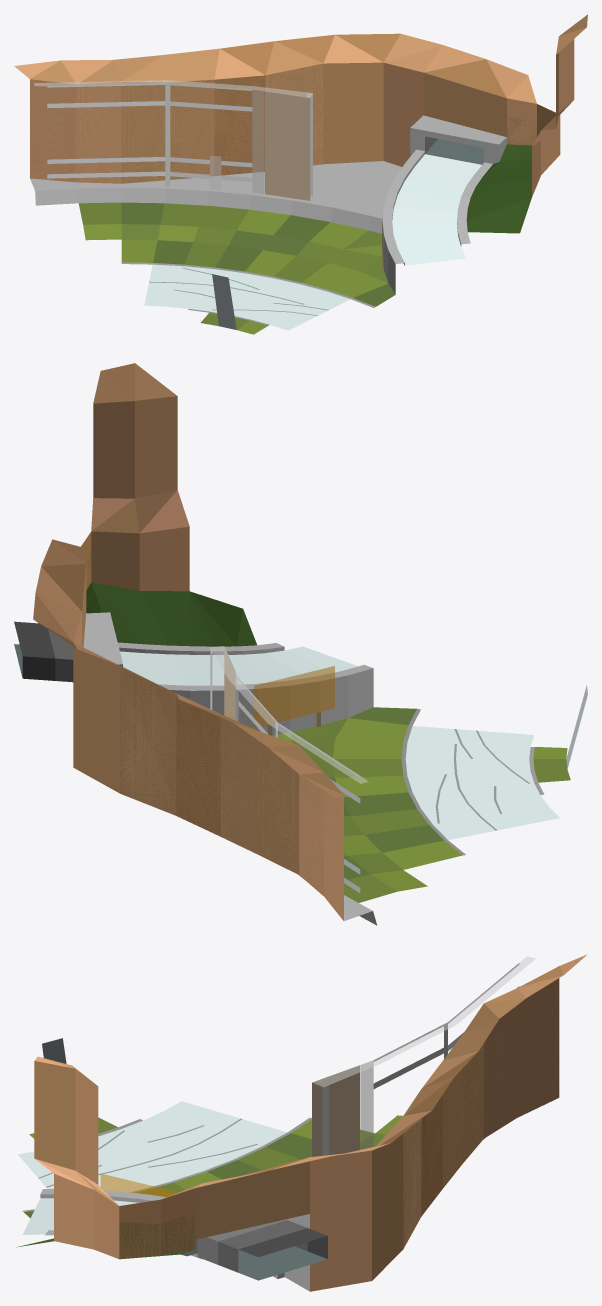
The picture shows the model from 3 angles, top to bottom: view 1: azimuth 30°, elevation 25°; view 2: azimuth 150°, elevation 25°; view 3: azimuth 270°, elevation 25°; orthographic projection. The views are drawn at different scales.
Parts seen in each view (by area): view 1: O13357; view 2: O13357; view 3: O13357.
Part boxes in pixels (<box>): O13357: <box>14,14,587,334</box>; O13357: <box>14,363,587,925</box>; O13357: <box>16,954,587,1291</box>.
Size of the model in its own units: 143 by 76 by 133.
